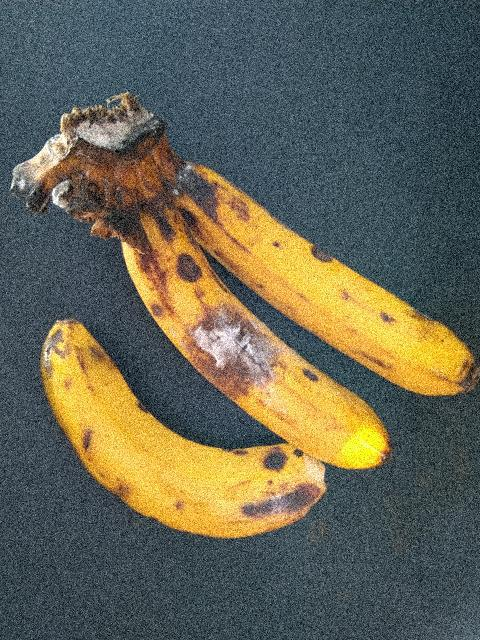overripe: (121, 225, 413, 487), (182, 156, 473, 402), (44, 311, 331, 548)
rotten: (155, 292, 296, 446)
